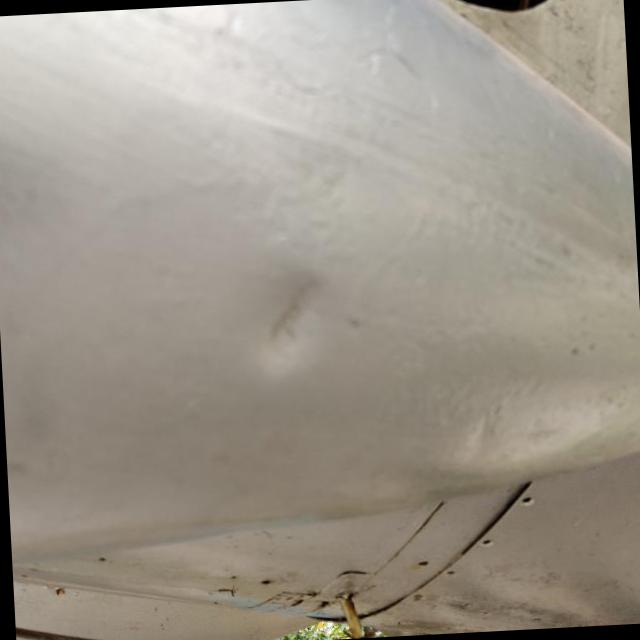Dent: (220, 256, 375, 383)
